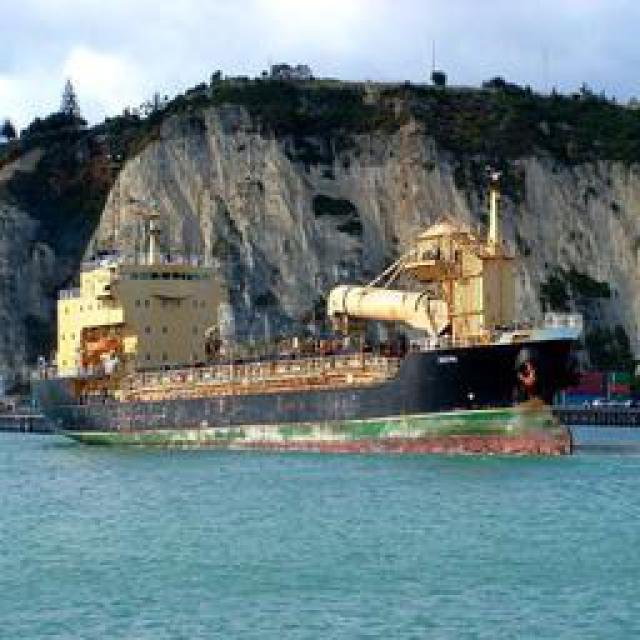Ship: (22, 145, 597, 467)
